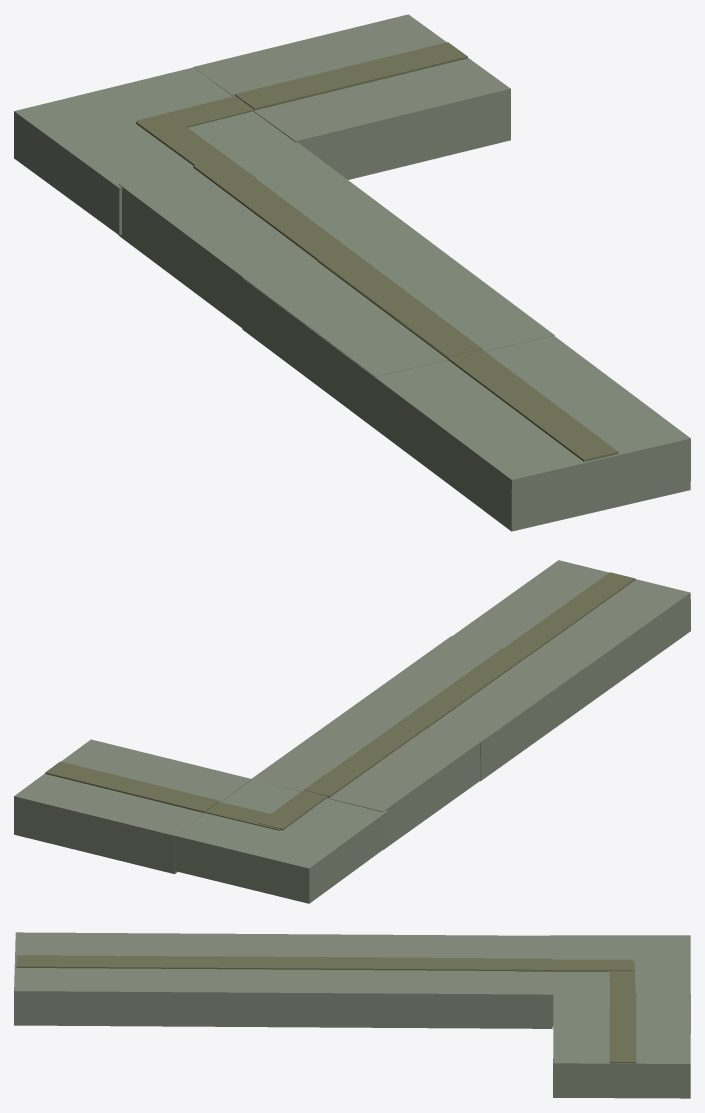
File: RoadSegmentCurveRight.dae
3 renders of one model, top to bottom at view 1: azimuth 30°, elevation 25°; view 2: azimuth 150°, elevation 25°; view 3: azimuth 270°, elevation 25°, orthographic. The views are drawn at different scales.
Visible parts, largest first — view 1: Cube_003, Cube_003_001, Cube_003_002, Cube, Cube_002, Cube_001; view 2: Cube_003, Cube_003_001, Cube_003_002, Cube, Cube_002, Cube_001; view 3: Cube_003, Cube_003_001, Cube_003_002, Cube, Cube_002, Cube_001.
Boxes of the visible parts, x1,y1,x2,y2 form: Cube_003: (118, 142, 554, 376); Cube_003_001: (242, 259, 690, 531); Cube_003_002: (193, 14, 510, 179); Cube: (14, 67, 298, 235); Cube_002: (136, 114, 255, 178); Cube_001: (137, 96, 253, 127); Cube_003: (251, 636, 582, 849); Cube_003_001: (427, 560, 690, 781); Cube_003_002: (14, 739, 251, 874); Cube: (175, 778, 387, 903); Cube_002: (258, 775, 327, 830); Cube_001: (205, 801, 280, 830); Cube_003: (201, 933, 554, 1028); Cube_003_001: (14, 932, 374, 1027); Cube_003_002: (553, 992, 690, 1098); Cube: (550, 935, 690, 1025); Cube_002: (515, 959, 632, 971); Cube_001: (609, 961, 635, 992).
Bounding box in the file's own units: 14.75 × 32.21 × 1.92.
